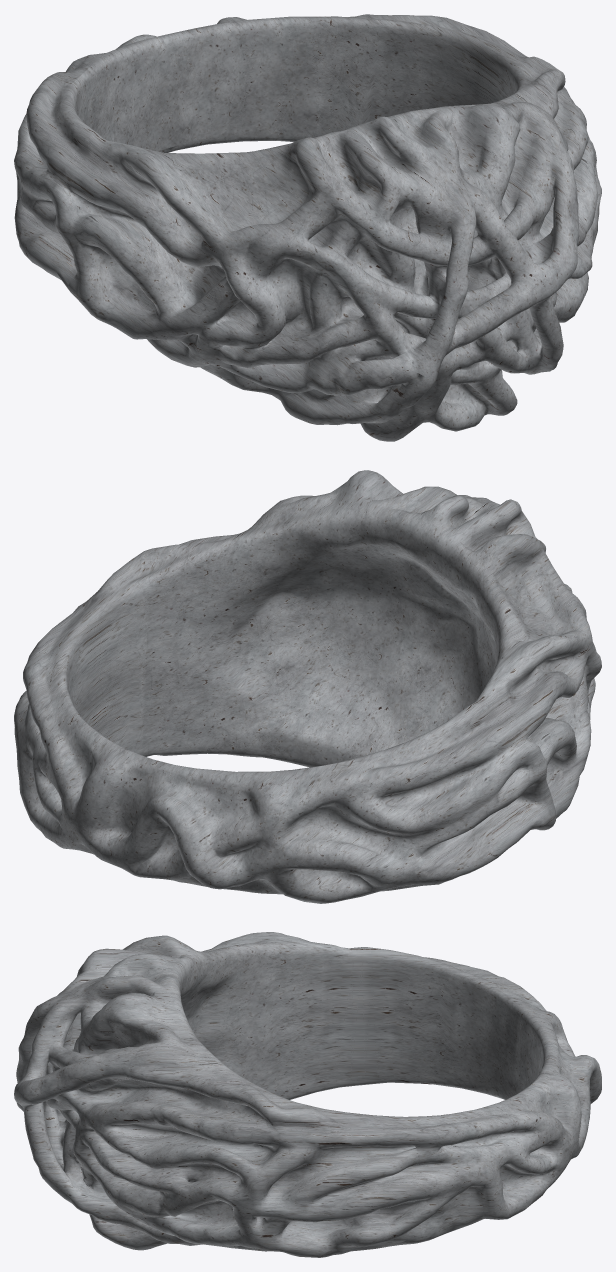
Rendered from apocryphon.glb.
The picture shows the model from 3 angles, top to bottom: view 1: azimuth 30°, elevation 25°; view 2: azimuth 150°, elevation 25°; view 3: azimuth 270°, elevation 25°; orthographic projection. The views are drawn at different scales.
Visible parts, largest first — view 1: PM3D_Кольцо с ветками Styx 20_01; view 2: PM3D_Кольцо с ветками Styx 20_01; view 3: PM3D_Кольцо с ветками Styx 20_01.
Part boxes in pixels (<box>): PM3D_Кольцо с ветками Styx 20_01: <box>14,14,601,441</box>; PM3D_Кольцо с ветками Styx 20_01: <box>14,470,601,903</box>; PM3D_Кольцо с ветками Styx 20_01: <box>14,932,601,1257</box>.
Size of the model in its own units: 0.4263 by 0.255 by 0.529.
1 material, 1 textured.
